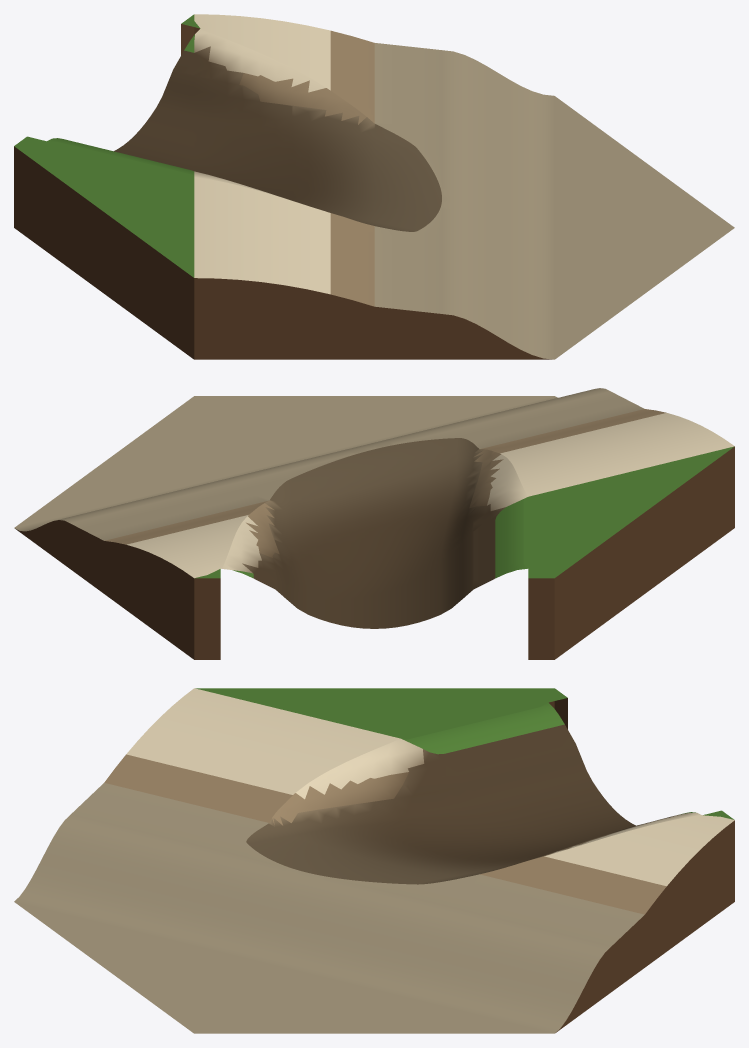
Rendered from river_mouth_l_base.glb.
The picture shows the model from 3 angles, top to bottom: view 1: azimuth 30°, elevation 25°; view 2: azimuth 150°, elevation 25°; view 3: azimuth 270°, elevation 25°; orthographic projection.
Parts seen in each view (by area): view 1: river_mouth_l_base_lod0; view 2: river_mouth_l_base_lod0; view 3: river_mouth_l_base_lod0.
Boxes of the visible parts, left/top/right/bottom form: river_mouth_l_base_lod0: left=14, top=14, right=734, bottom=359; river_mouth_l_base_lod0: left=14, top=388, right=734, bottom=659; river_mouth_l_base_lod0: left=14, top=688, right=734, bottom=1033.
Size of what is drawn, in the model's own units: 27.71 by 4 by 32.
